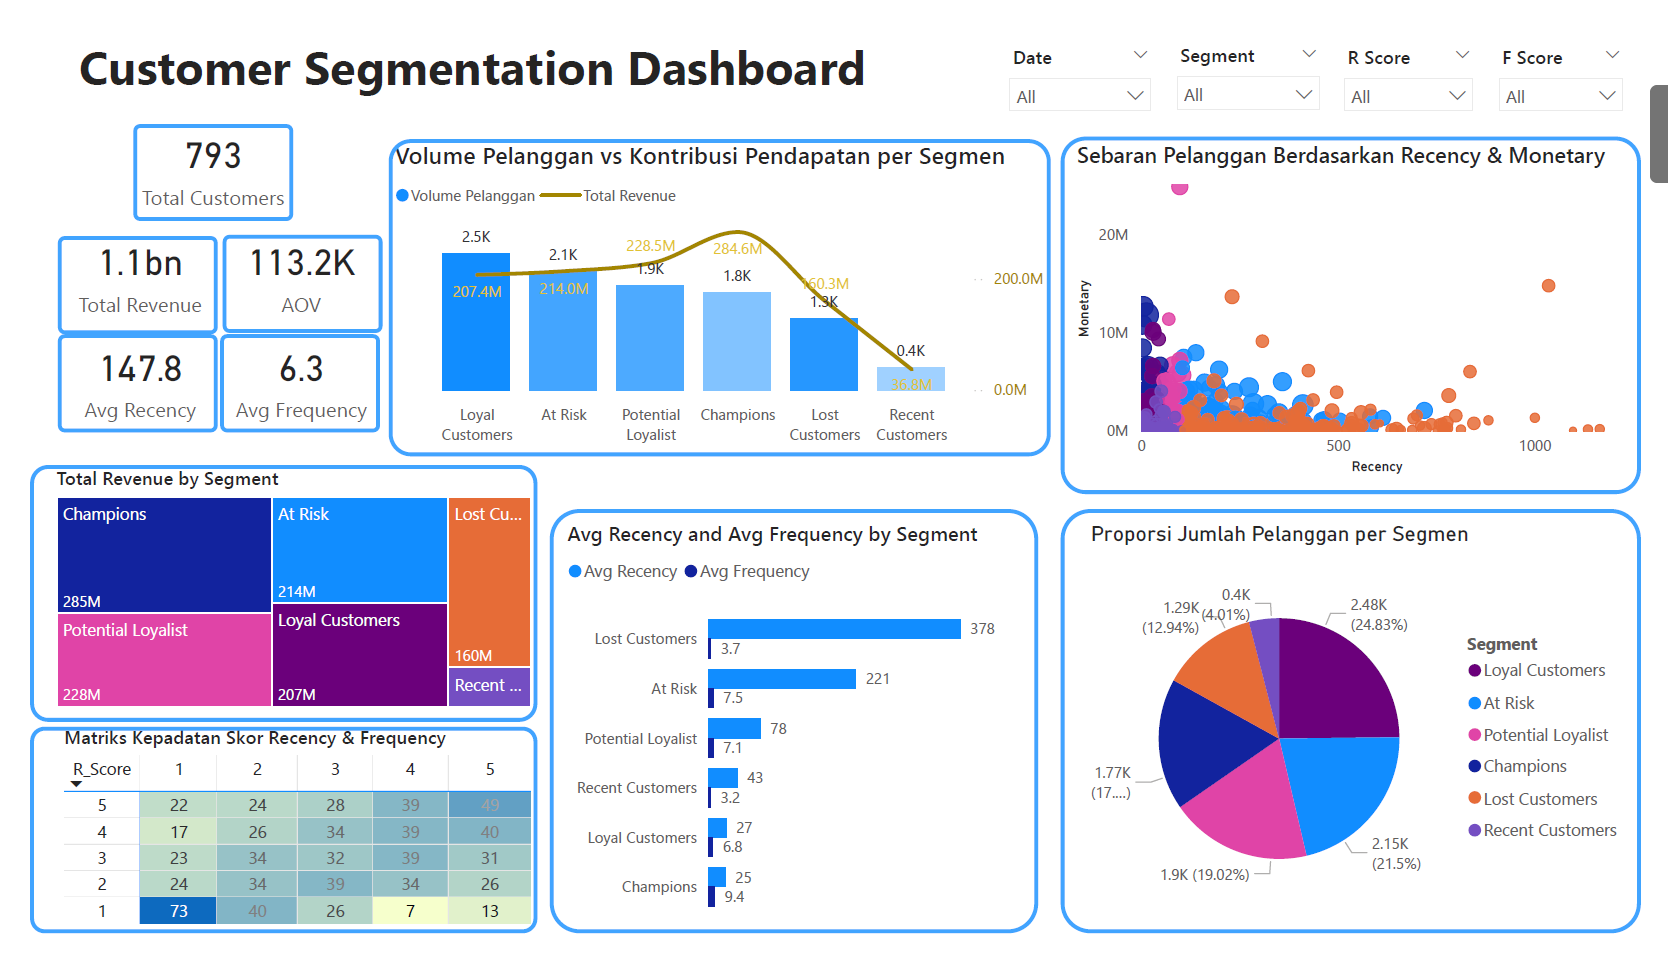

The dashboard page shown, as its layout file describes it:
{"tool":"powerbi","page":{"name":"Page 1","canvas":[1280,720],"ordinal":0},"visuals":[{"type":"card","fields":{"Values":["Table.Total Customers"]},"box":[81.9,67.2,127.5,86.9],"z":0},{"type":"card","fields":{"Values":["Measure.Total Revenue"]},"box":[18.2,154.1,139,83.4],"z":1000},{"type":"card","fields":{"Values":["Measure.Avg Recency"]},"box":[18.2,237.5,139,83.4],"z":2000},{"type":"card","fields":{"Values":["Measure.Avg Revenue per Customer"]},"box":[145.6,154.1,139,83.4],"z":3000},{"type":"card","fields":{"Values":["Measure.Avg Frequency"]},"box":[145.6,237.5,139,83.4],"z":4000},{"type":"lineStackedColumnComboChart","title":"Volume Pelanggan vs Kontribusi Pendapatan per Segmen","fields":{"Category":["Scoring_rfm.Segment"],"Y":["CountNonNull(clean_customer_segmentation_rfm.order_id)"],"Y2":["Measure.Total Revenue"]},"box":[284.9,89.2,526.3,249.4],"z":5000},{"type":"scatterChart","title":"Sebaran Pelanggan Berdasarkan Recency & Monetary","fields":{"Y":["Scoring_rfm.Monetary"],"X":["Scoring_rfm.Recency"],"Series":["Scoring_rfm.Segment"],"Size":["Avg(Scoring_rfm.Frequency)"]},"box":[827.3,89.2,448.5,271.2],"z":6000},{"type":"pivotTable","title":"Matriks Kepadatan Skor Recency & Frequency","fields":{"Values":["CountNonNull(Scoring_rfm.Monetary)"],"Rows":["Scoring_rfm.R_Score"],"Columns":["Scoring_rfm.F_Score"]},"box":[22,544.6,383.5,175],"z":7000},{"type":"pieChart","title":"Proporsi Jumlah Pelanggan per Segmen","fields":{"Category":["Scoring_rfm.Segment"],"Y":["Count(clean_customer_segmentation_rfm.customer_id)"]},"box":[827.3,391.3,448.5,328.4],"z":8000},{"type":"clusteredBarChart","fields":{"Category":["Scoring_rfm.Segment"],"Y":["Measure.Avg Recency","Measure.Avg Frequency"]},"box":[422.2,391.3,436,328.4],"z":9000},{"type":"treemap","fields":{"Group":["Scoring_rfm.Segment"],"Values":["Measure.Total Revenue"]},"box":[16.2,347.6,387,197],"z":10000},{"type":"textbox","box":[22,1.2,659.3,66],"z":11000},{"type":"slicer","fields":{"Values":["clean_customer_segmentation_rfm.MonthYearLabel"]},"box":[768.2,8.1,133.3,59.1],"z":12000},{"type":"slicer","fields":{"Values":["Scoring_rfm.Segment"]},"box":[901.5,7,133.3,60.3],"z":13000},{"type":"slicer","fields":{"Values":["Scoring_rfm.R_Score"]},"box":[1034.4,8,122.4,59.5],"z":14000},{"type":"slicer","fields":{"Values":["Scoring_rfm.F_Score"]},"box":[1156.8,8,119,59.5],"z":15000},{"type":"shape","box":[82.4,76.7,127,77.8],"z":16000},{"type":"shape","box":[151,243.7,127,77.8],"z":17000},{"type":"shape","box":[21.7,243.7,127,77.8],"z":18000},{"type":"shape","box":[152.6,165.2,127,77.8],"z":19000},{"type":"shape","box":[21.7,165.9,127,77.8],"z":20000},{"type":"shape","box":[284.9,89.2,526.3,251.7],"z":21000},{"type":"shape","box":[819.3,87,461.1,283.8],"z":22000},{"type":"shape","box":[413.1,383.3,387.9,336.4],"z":23000},{"type":"shape","box":[814.7,383.3,461.1,336.4],"z":24000},{"type":"shape","box":[0,347.8,402.8,203.7],"z":25000},{"type":"shape","box":[0,556.1,402.8,163.6],"z":26000}]}

Visuals, with their boxes in screenshot pixels (x1, y1, x2, y2), scaled from the page's 1280x720 canvas onto the 1668x961 screenshot:
card - Table.Total Customers: [left=107, top=90, right=273, bottom=206]
card - Measure.Total Revenue: [left=24, top=206, right=205, bottom=317]
card - Measure.Avg Recency: [left=24, top=317, right=205, bottom=428]
card - Measure.Avg Revenue per Customer: [left=190, top=206, right=371, bottom=317]
card - Measure.Avg Frequency: [left=190, top=317, right=371, bottom=428]
"Volume Pelanggan vs Kontribusi Pendapatan per Segmen" lineStackedColumnComboChart: [left=371, top=119, right=1057, bottom=452]
"Sebaran Pelanggan Berdasarkan Recency & Monetary" scatterChart: [left=1078, top=119, right=1663, bottom=481]
"Matriks Kepadatan Skor Recency & Frequency" pivotTable: [left=29, top=727, right=528, bottom=960]
"Proporsi Jumlah Pelanggan per Segmen" pieChart: [left=1078, top=522, right=1663, bottom=960]
clusteredBarChart - Scoring_rfm.Segment x Measure.Avg Recency: [left=550, top=522, right=1118, bottom=960]
treemap - Scoring_rfm.Segment x Measure.Total Revenue: [left=21, top=464, right=525, bottom=727]
textbox: [left=29, top=2, right=888, bottom=90]
slicer - clean_customer_segmentation_rfm.MonthYearLabel: [left=1001, top=11, right=1175, bottom=90]
slicer - Scoring_rfm.Segment: [left=1175, top=9, right=1348, bottom=90]
slicer - Scoring_rfm.R_Score: [left=1348, top=11, right=1507, bottom=90]
slicer - Scoring_rfm.F_Score: [left=1507, top=11, right=1663, bottom=90]
shape: [left=107, top=102, right=273, bottom=206]
shape: [left=197, top=325, right=362, bottom=429]
shape: [left=28, top=325, right=194, bottom=429]
shape: [left=199, top=220, right=364, bottom=324]
shape: [left=28, top=221, right=194, bottom=325]
shape: [left=371, top=119, right=1057, bottom=455]
shape: [left=1068, top=116, right=1667, bottom=495]
shape: [left=538, top=512, right=1044, bottom=960]
shape: [left=1062, top=512, right=1663, bottom=960]
shape: [left=0, top=464, right=525, bottom=736]
shape: [left=0, top=742, right=525, bottom=960]
